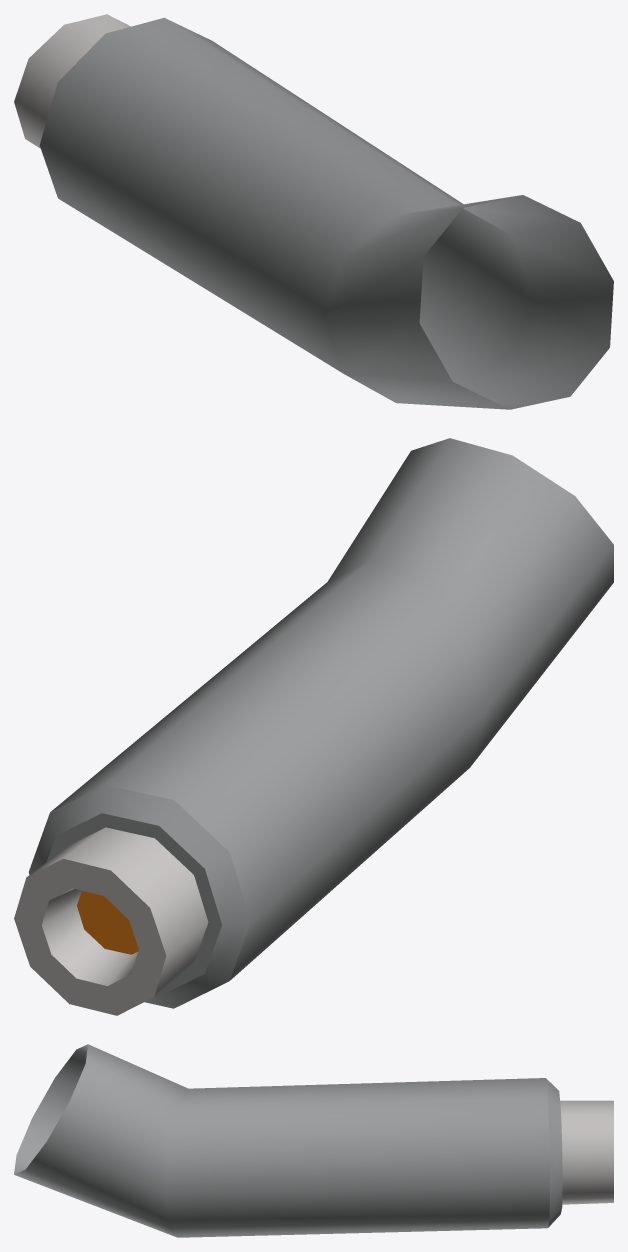
The model's file is Car_01_Pipe_Simple.fbx.
3 renders of one model, top to bottom at view 1: azimuth 30°, elevation 25°; view 2: azimuth 150°, elevation 25°; view 3: azimuth 270°, elevation 25°, orthographic. The views are drawn at different scales.
Visible parts, largest first — view 1: Car_01_Pipe_Simple; view 2: Car_01_Pipe_Simple; view 3: Car_01_Pipe_Simple.
Part boxes in pixels (box(x1,y1,x2,y2)): Car_01_Pipe_Simple: box(14, 14, 613, 409); Car_01_Pipe_Simple: box(14, 438, 613, 1015); Car_01_Pipe_Simple: box(14, 1044, 613, 1237).
Bounding box in the file's own units: 28.25 × 96.73 × 30.72.
